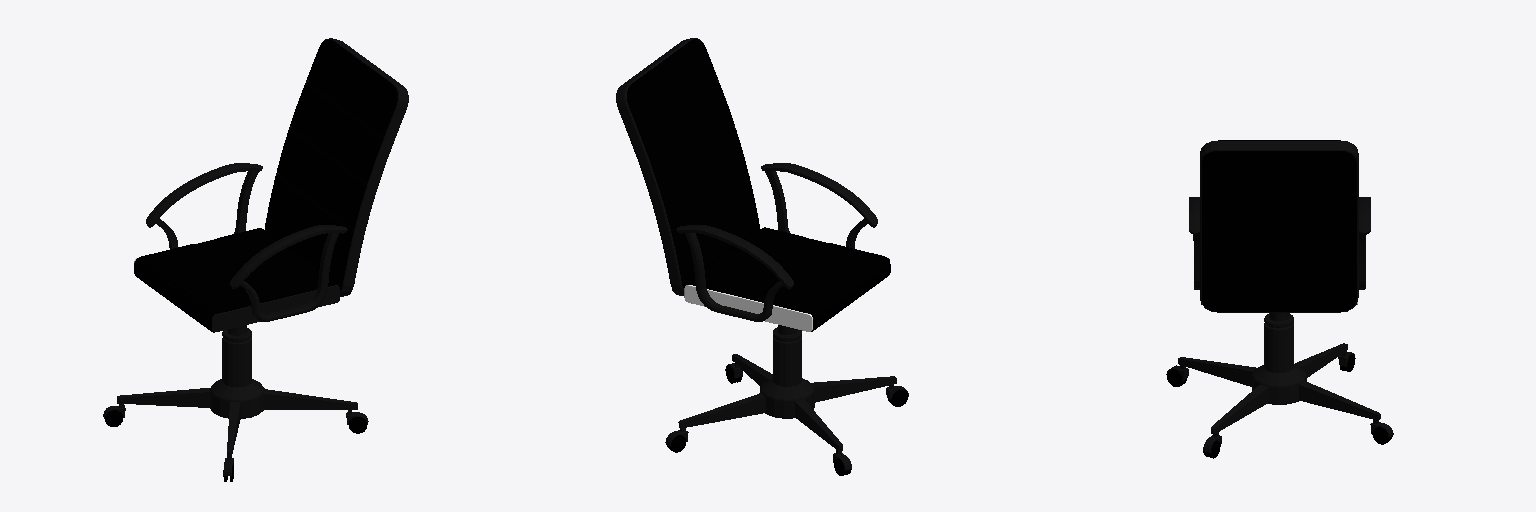
Rendered from office_chair.obj.
The picture shows the model from 3 angles: view 1: azimuth 30°, elevation 25°; view 2: azimuth 150°, elevation 25°; view 3: azimuth 270°, elevation 25°; orthographic projection.
Visible parts, largest first — view 1: polySurface2_leather_0, polySurface5_leather_0, handles_metal_0_handles_metal_0.001, pCylinder1_metal_0, borders_metal_0, base_metal_0, polySurface13_metal_0; view 2: polySurface2_leather_0, polySurface5_leather_0, pCylinder1_metal_0, handles_metal_0_handles_metal_0.001, borders_metal_0, polySurface6_blinn3_0, base_metal_0; view 3: polySurface2_leather_0, pCylinder1_metal_0, borders_metal_0, base_metal_0, handles_metal_0_handles_metal_0.001.
Part boxes in pixels (x1,y1,x2,y2): polySurface2_leather_0: (265,40,405,290); polySurface5_leather_0: (134,228,339,332); handles_metal_0_handles_metal_0.001: (146,163,347,321); pCylinder1_metal_0: (117,379,357,456); borders_metal_0: (276,38,408,296); base_metal_0: (222,325,251,386); polySurface13_metal_0: (212,285,339,331); polySurface2_leather_0: (619,39,759,288); polySurface5_leather_0: (685,227,890,331); pCylinder1_metal_0: (678,354,896,450); handles_metal_0_handles_metal_0.001: (676,163,877,321); borders_metal_0: (616,38,748,295); polySurface6_blinn3_0: (684,285,812,331); base_metal_0: (773,325,801,386); polySurface2_leather_0: (1202,140,1356,311); pCylinder1_metal_0: (1178,343,1380,433); borders_metal_0: (1200,141,1358,312); base_metal_0: (1264,313,1293,372); handles_metal_0_handles_metal_0.001: (1189,197,1370,289).
Size of the model in its own units: 1.68 by 2.28 by 1.4.